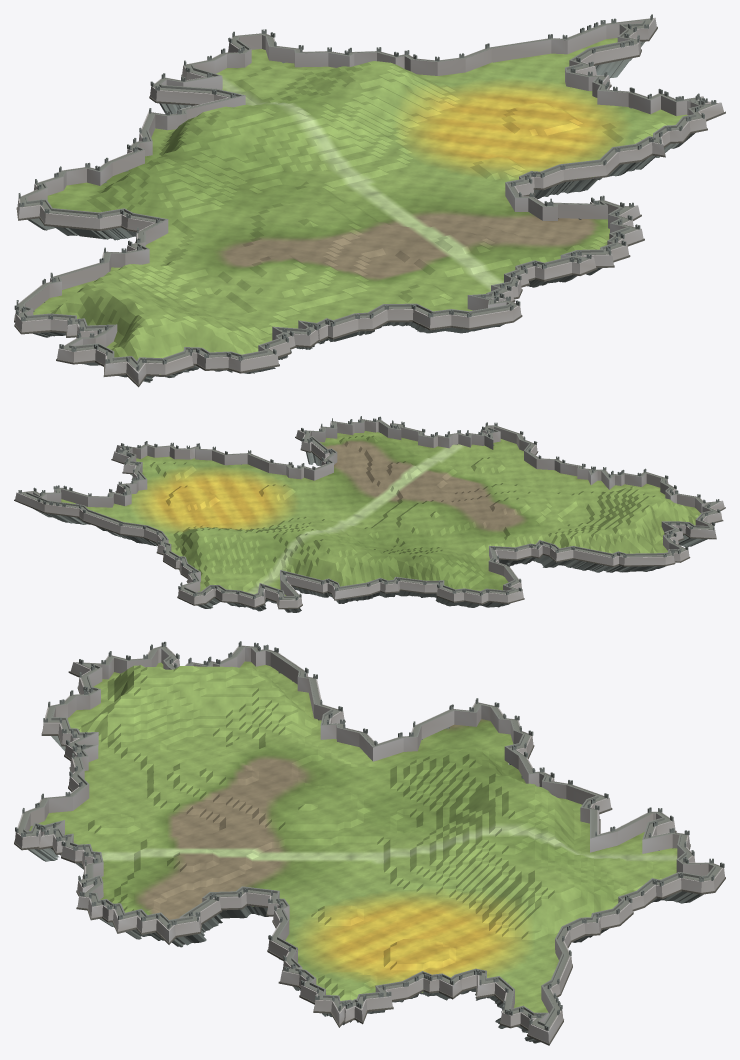
3 views of the same model, one above another, from view 1: azimuth 30°, elevation 25°; view 2: azimuth 150°, elevation 25°; view 3: azimuth 270°, elevation 25° (orthographic). The views are drawn at different scales.
Parts seen in each view (by area): view 1: ground_feecd450; view 2: ground_feecd450; view 3: ground_feecd450.
Boxes of the visible parts, box(x1,y1,x2,y2) form: ground_feecd450: box(14, 14, 725, 387); ground_feecd450: box(14, 416, 725, 612); ground_feecd450: box(14, 641, 725, 1045).
Size of the model in its own units: 211 by 11.73 by 163.
3 materials, 1 textured.
